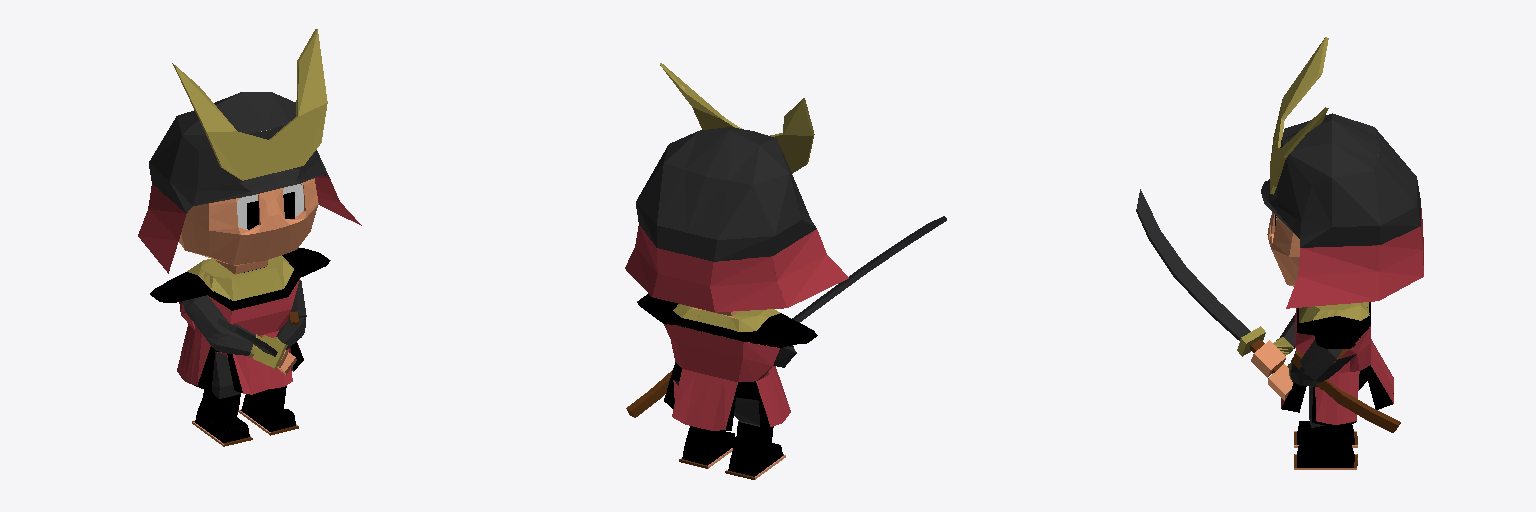
3 views of the same model, side by side, from view 1: azimuth 30°, elevation 25°; view 2: azimuth 150°, elevation 25°; view 3: azimuth 270°, elevation 25° (orthographic).
Visible parts, largest first — view 1: Cube.001; view 2: Cube.001; view 3: Cube.001.
Boxes of the visible parts, x1,y1,x2,y2 form: Cube.001: [138, 29, 361, 446]; Cube.001: [625, 63, 946, 479]; Cube.001: [1136, 37, 1423, 469].
Bounding box in the file's own units: 3.53 × 5.84 × 4.01.
1 materials, 1 textured.